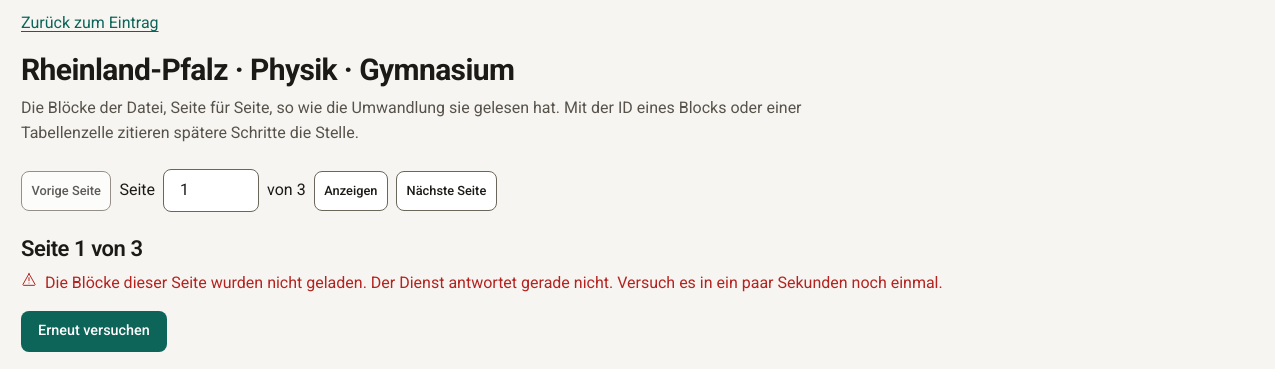
Scenario: an entry's blocks › say when a page did not load, and load it again on request
This screenshot has width=1275, height=369.
Check: the message shows "Die Blöcke dieser Seite wurden nicht geladen.", box [45,273,371,292]
Step 1. Click the button "Erneut versuchen" → (94, 332), box [21,311,167,352]
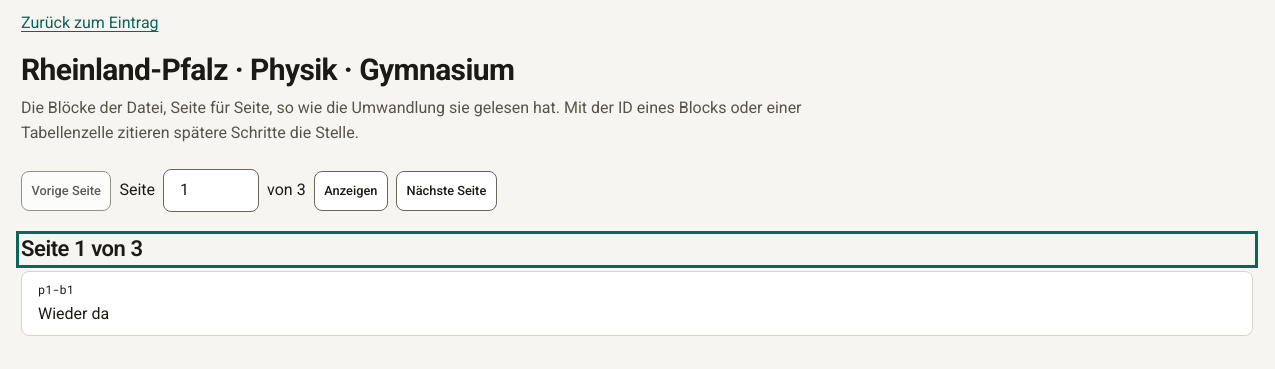
Check: the text with class "block__text" reads "Wieder da", box [38,304,109,323]
